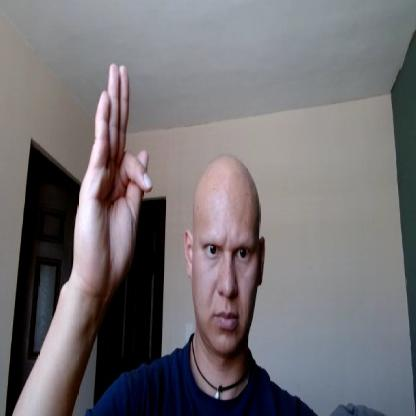F: (72, 63, 153, 289)
